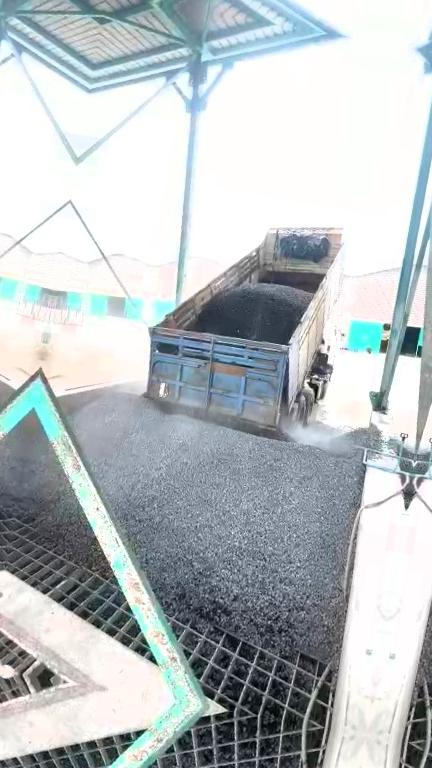gravel: (62, 387, 386, 662), (16, 416, 105, 571), (195, 283, 313, 343)
sand: (41, 346, 118, 390)
